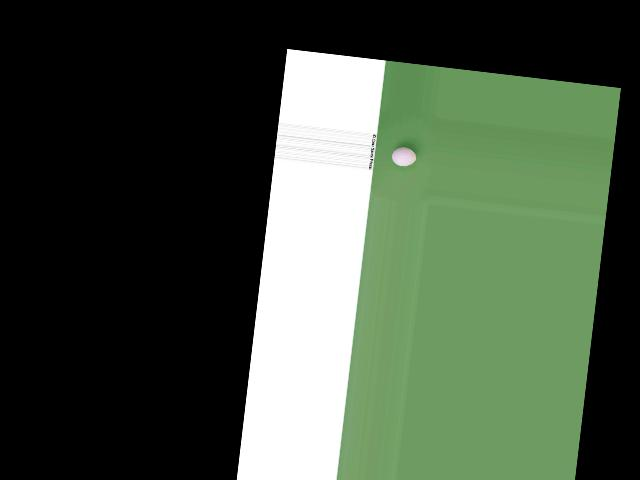egg: (390, 146, 417, 167)
